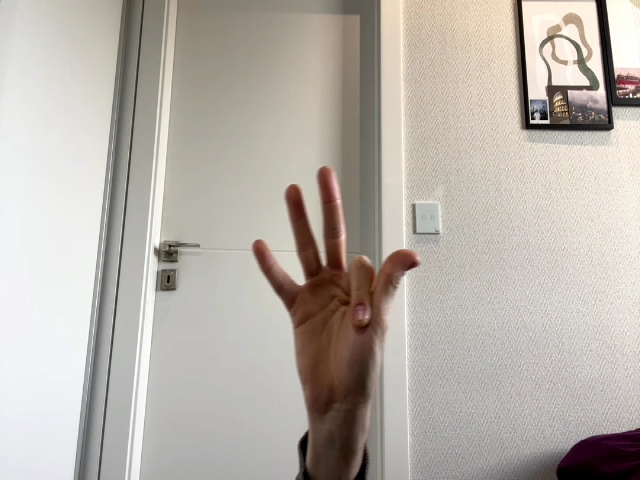F: (253, 166, 421, 416)
